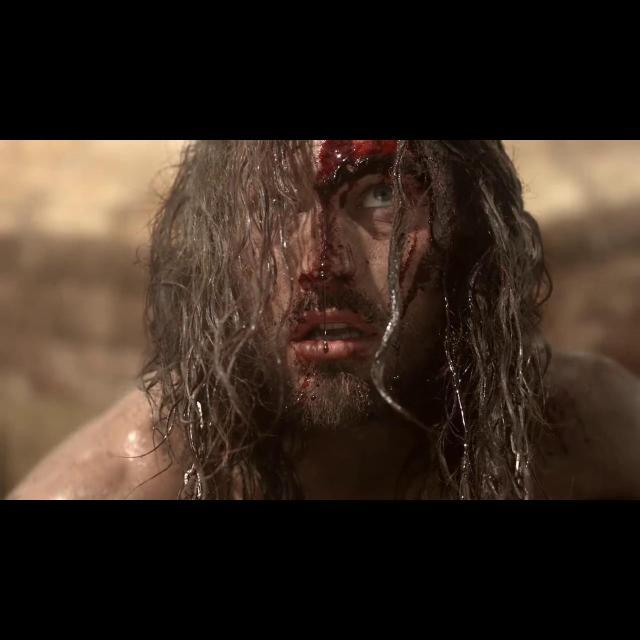blood: (271, 140, 398, 399), (402, 220, 440, 311)
